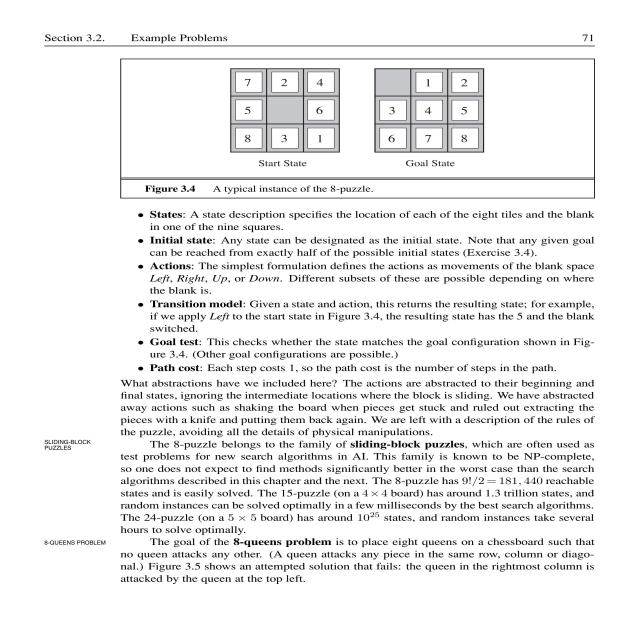diagram: (121, 61, 598, 201)
